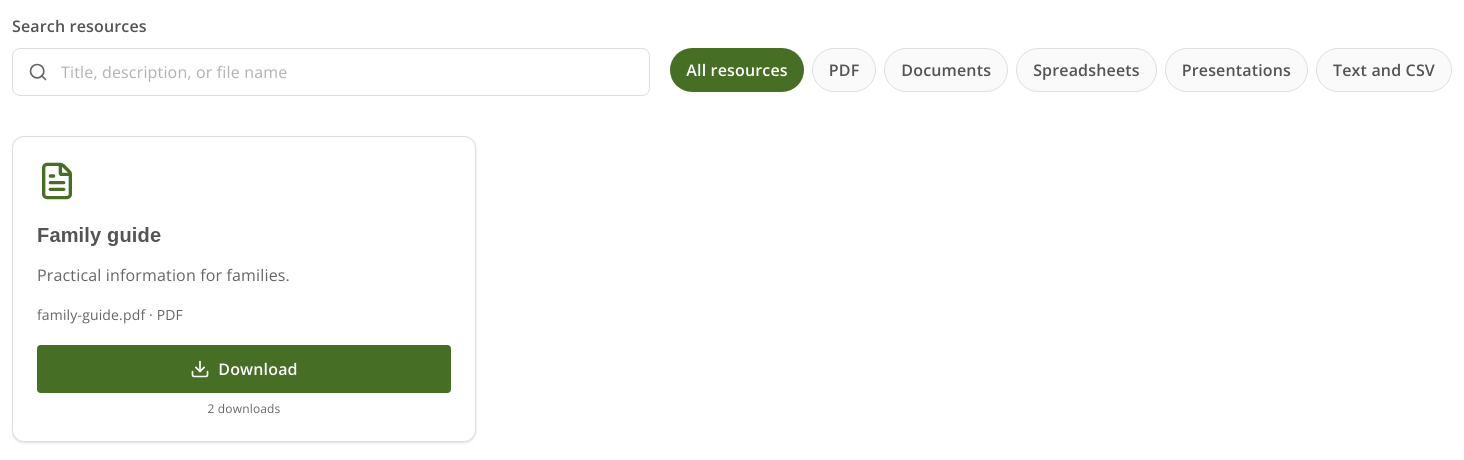
ResourceExplorer › coalesces rapid duplicate download clicks into one counted request
The width and height of the screenshot is (1464, 460).
Click the button "Download": [244, 369] box top-left (37, 345), bottom-right (451, 393)
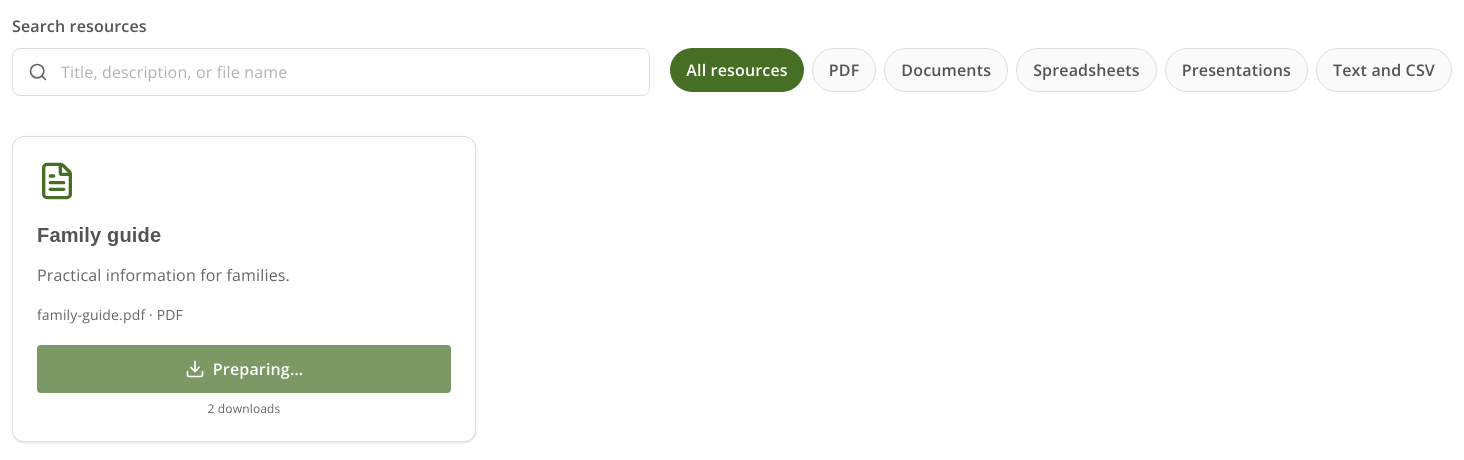
Click the button named "Download": [244, 369] box top-left (37, 345), bottom-right (451, 393)
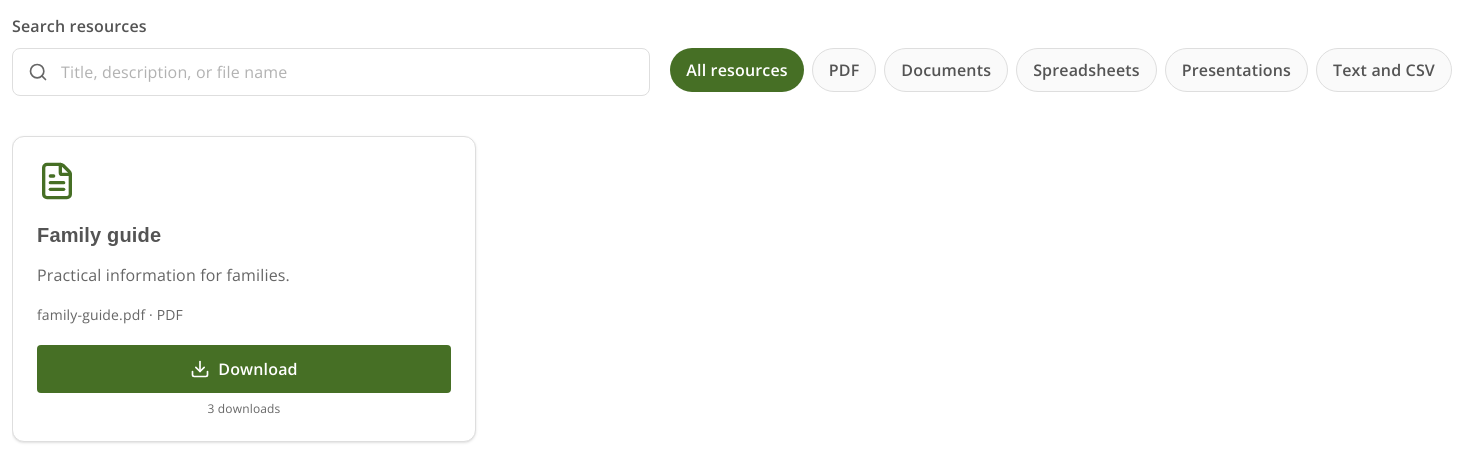
Expected: the text "3 downloads" is shown, top-left (208, 400), bottom-right (280, 417)
